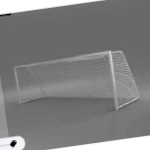goals: (13, 49, 140, 113)
